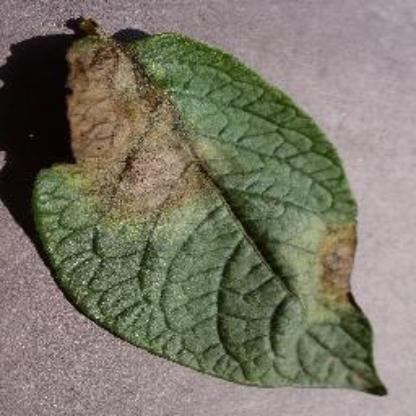Late-Blight: (35, 16, 396, 400)
